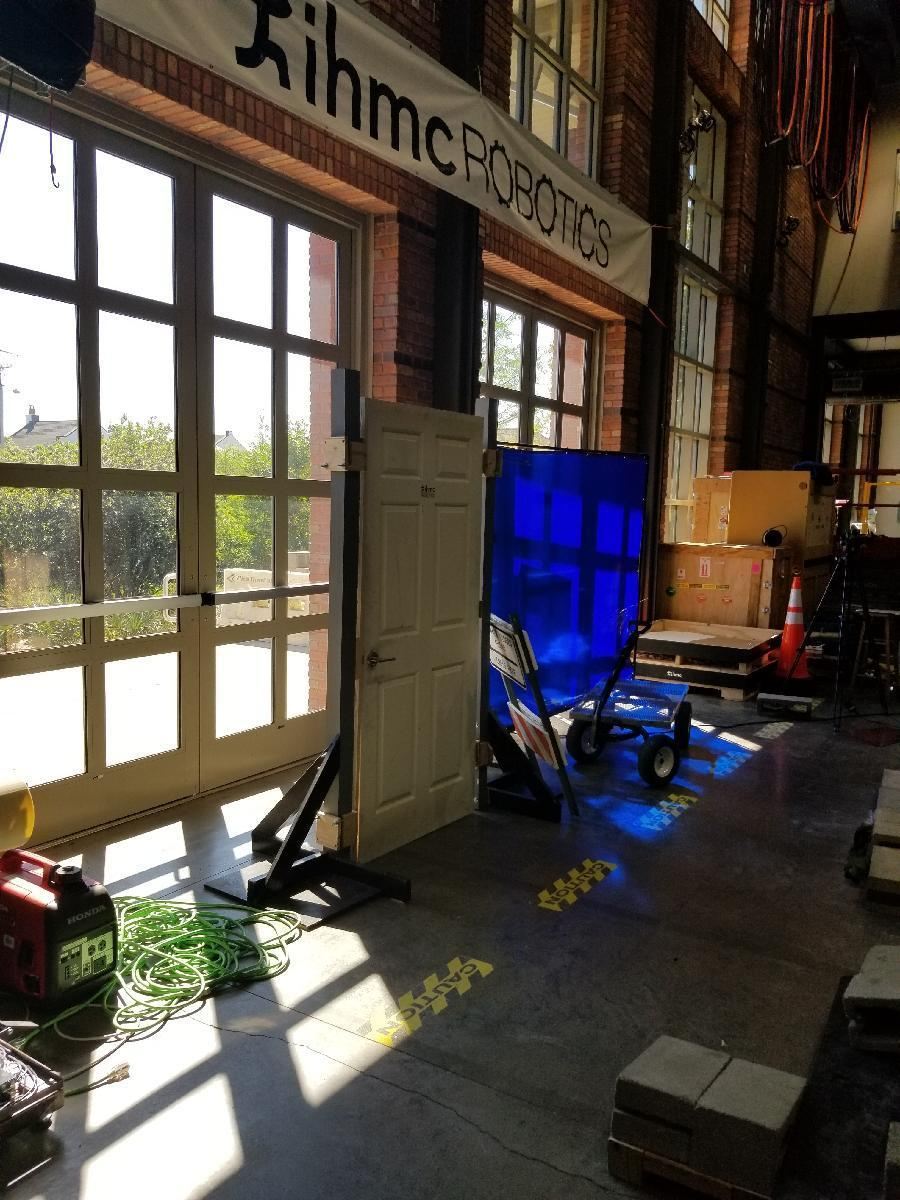door: (360, 403, 485, 851)
handle: (364, 649, 401, 671)
